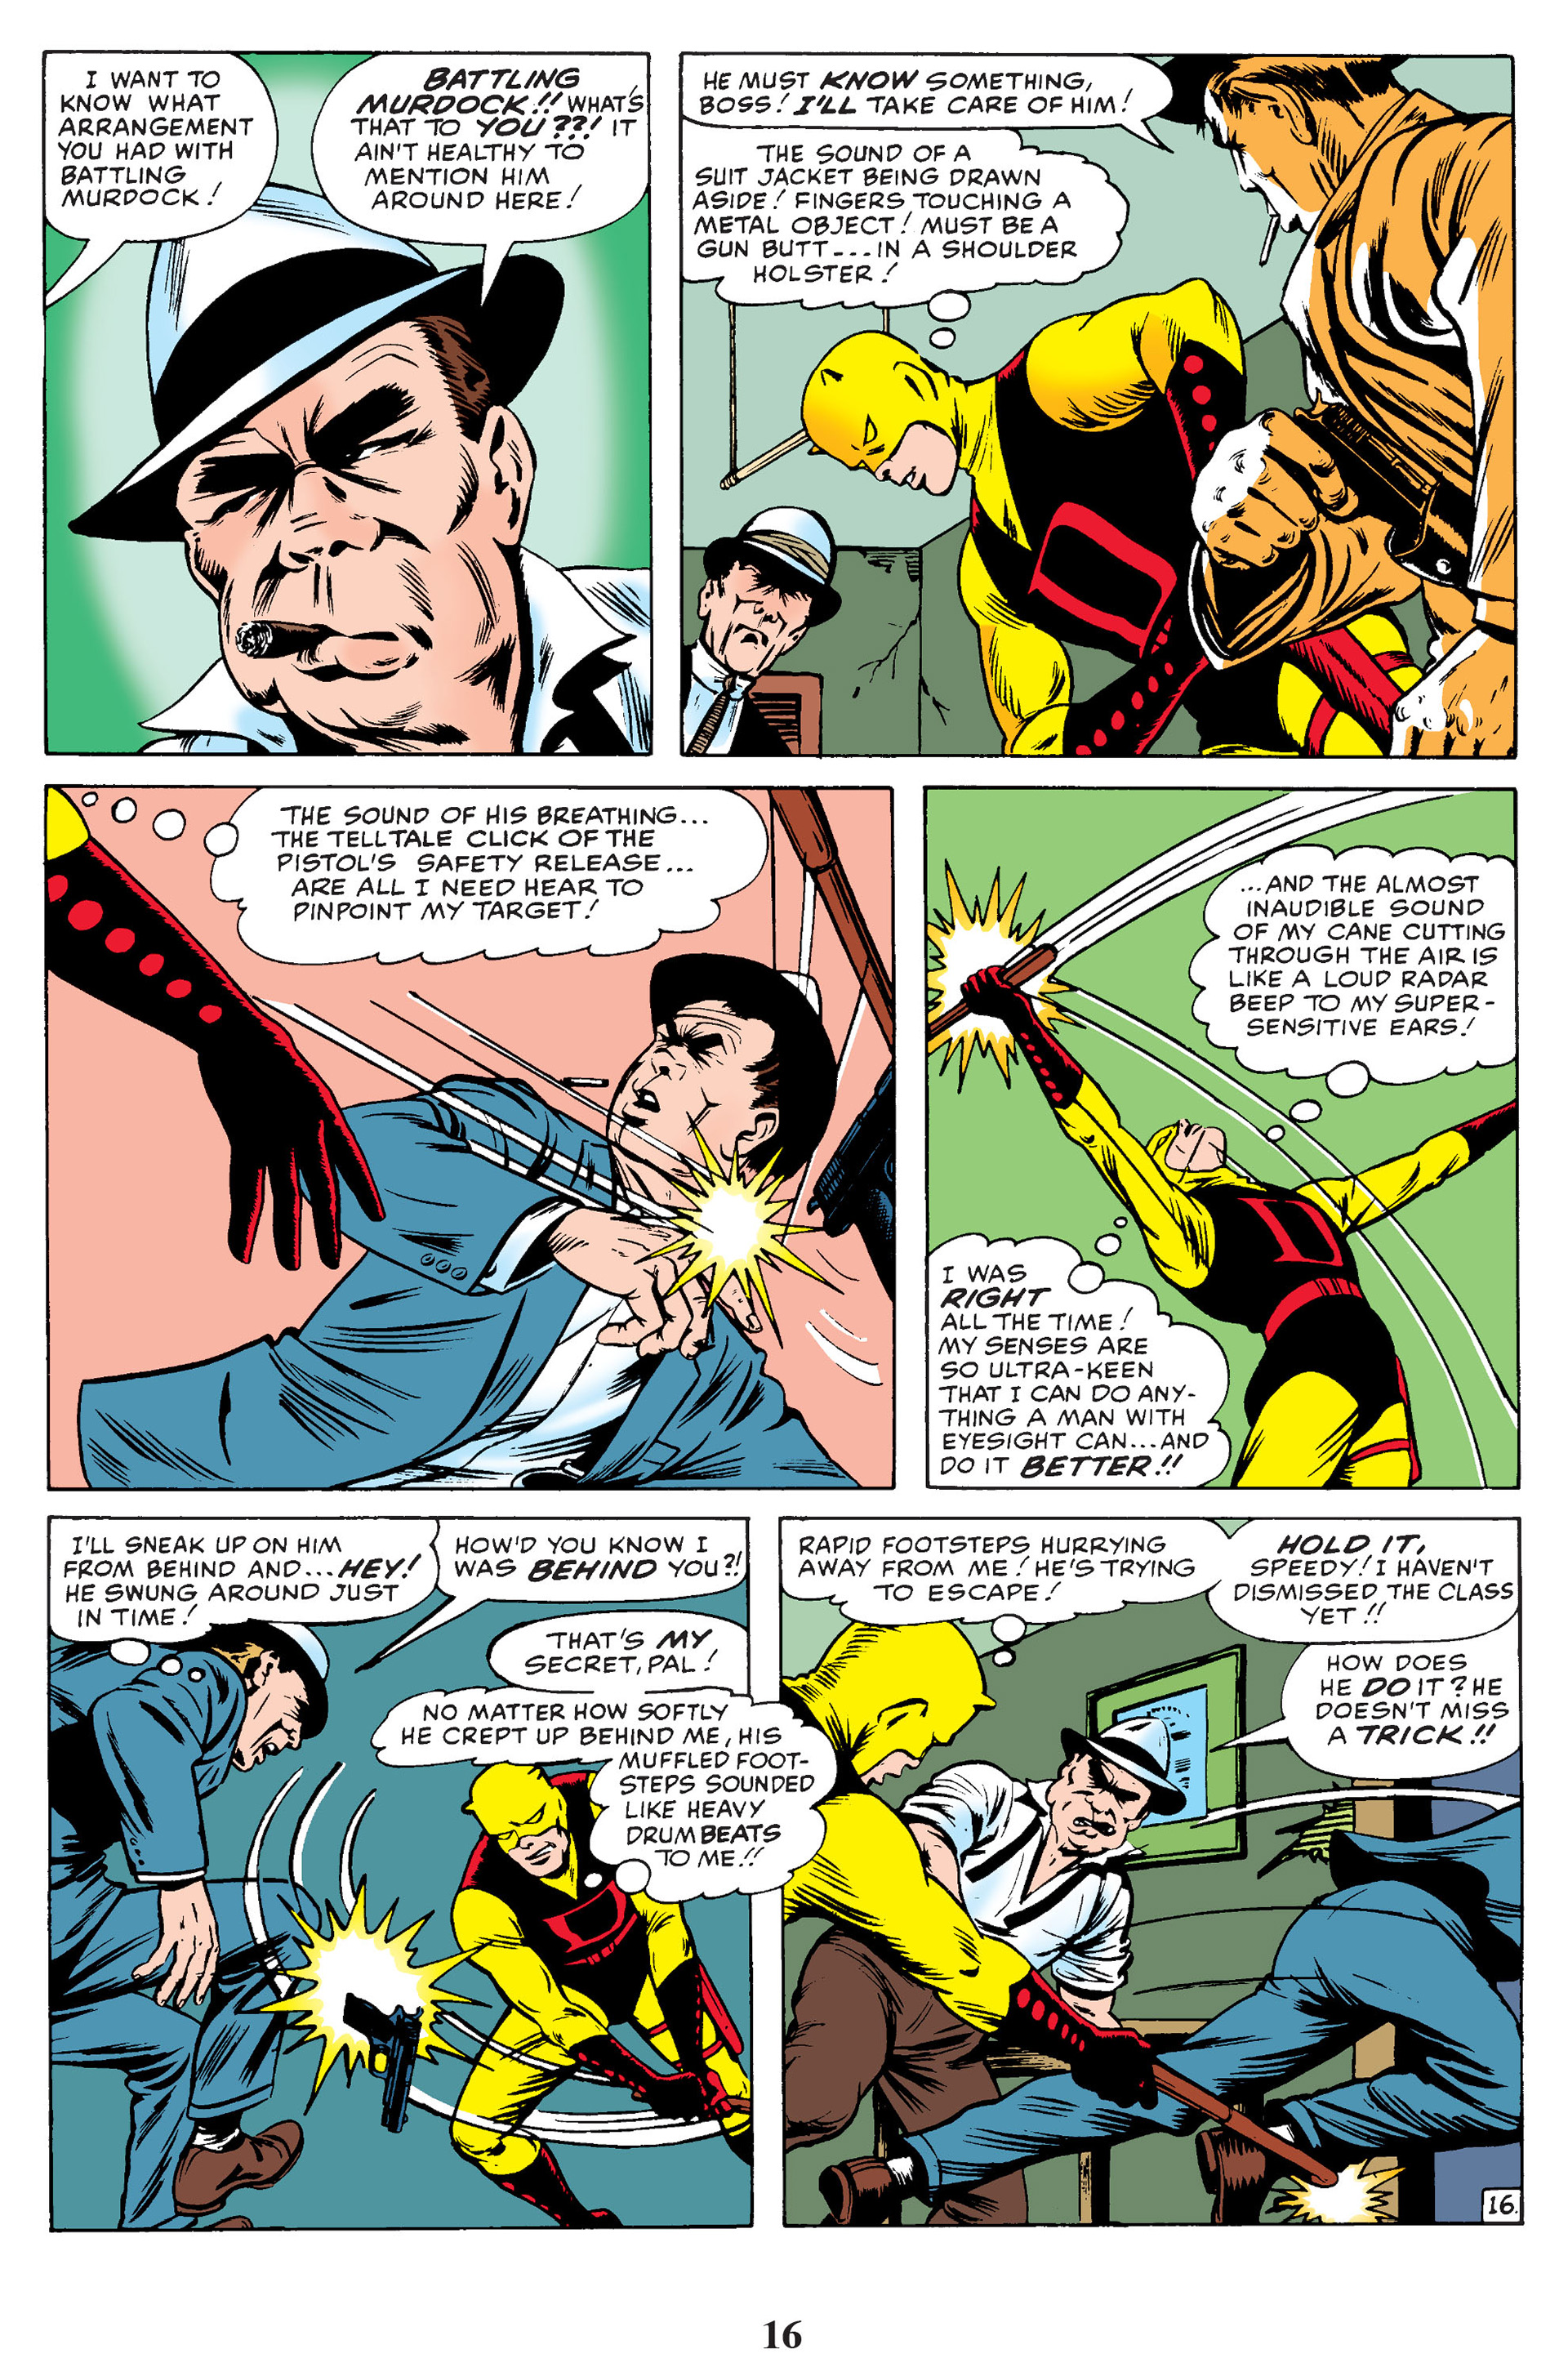Baloon: (47, 789, 901, 1489), (682, 51, 1517, 756), (779, 1517, 1521, 2224), (47, 1517, 752, 2219), (44, 51, 651, 756), (922, 782, 1514, 1489), (369, 1688, 833, 1923), (779, 1517, 1223, 1659), (54, 1517, 441, 1669), (1220, 1648, 1528, 1778), (1213, 1513, 1514, 1638), (422, 1499, 745, 1611), (495, 1613, 752, 1688)
